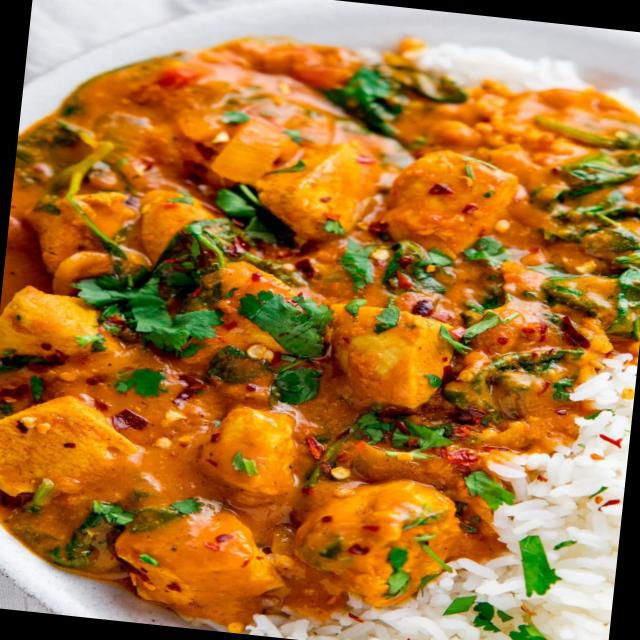chicken: (0, 5, 606, 628)
rice: (440, 372, 634, 640)
